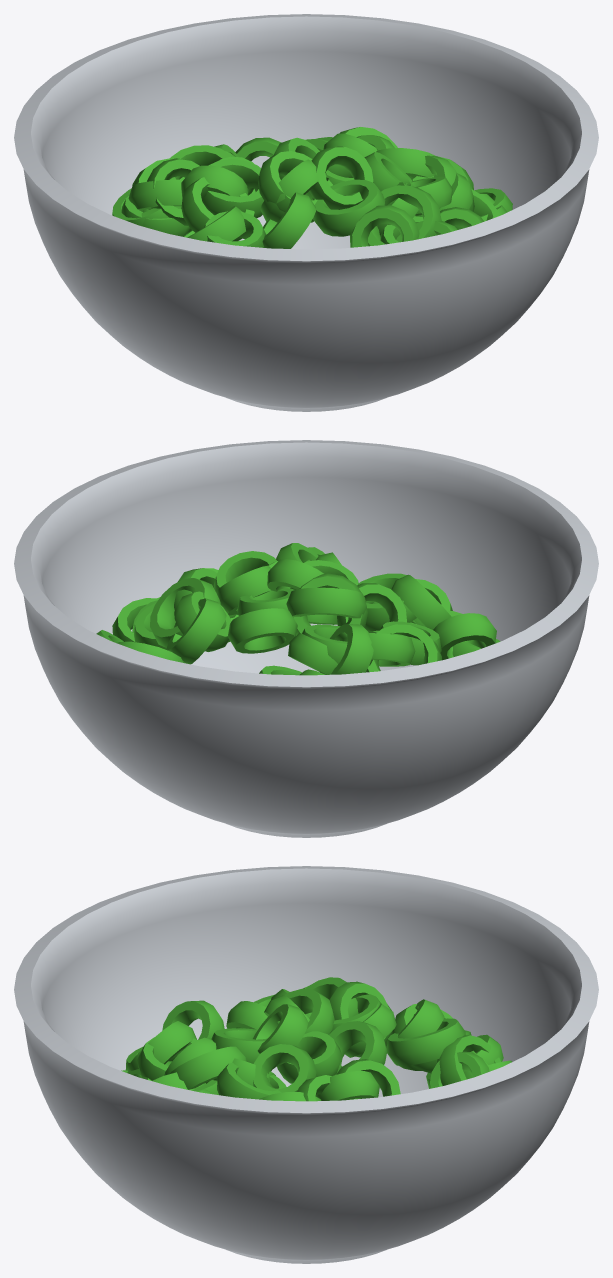
The model's file is GreenOnion_Bowl.fbx.
3 views of the same model, one above another, from view 1: azimuth 30°, elevation 25°; view 2: azimuth 150°, elevation 25°; view 3: azimuth 270°, elevation 25° (orthographic).
Parts seen in each view (by area): view 1: GreenOnion_Bowl; view 2: GreenOnion_Bowl; view 3: GreenOnion_Bowl.
Boxes of the visible parts, x1,y1,x2,y2 form: GreenOnion_Bowl: [14, 14, 598, 411]; GreenOnion_Bowl: [14, 440, 598, 837]; GreenOnion_Bowl: [14, 866, 598, 1263].
Bounding box in the file's own units: 0.113 × 0.0492 × 0.113.
